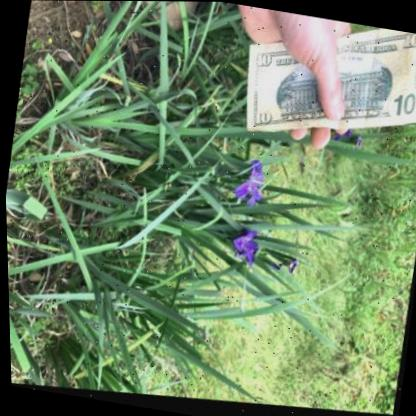dollar_back: (244, 30, 416, 137)
